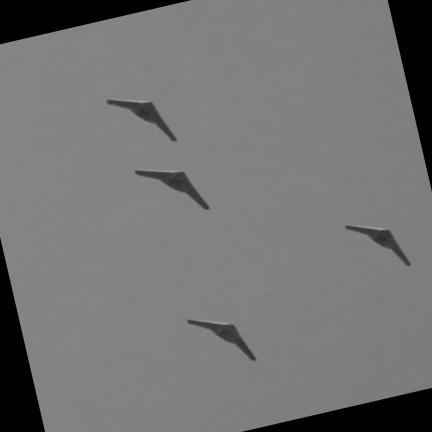Shahed: (134, 169, 208, 209), (106, 99, 176, 140), (187, 319, 255, 359), (345, 224, 410, 265)
